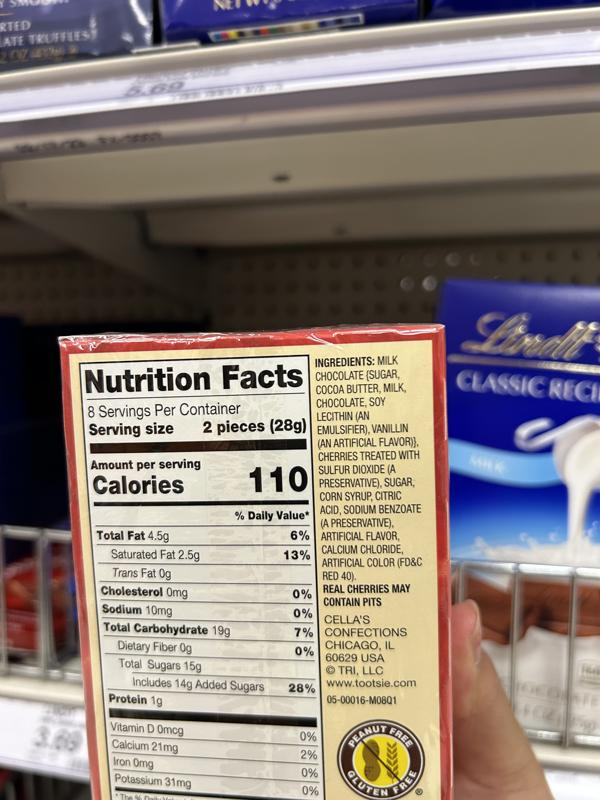ingredients: (313, 353, 425, 583)
